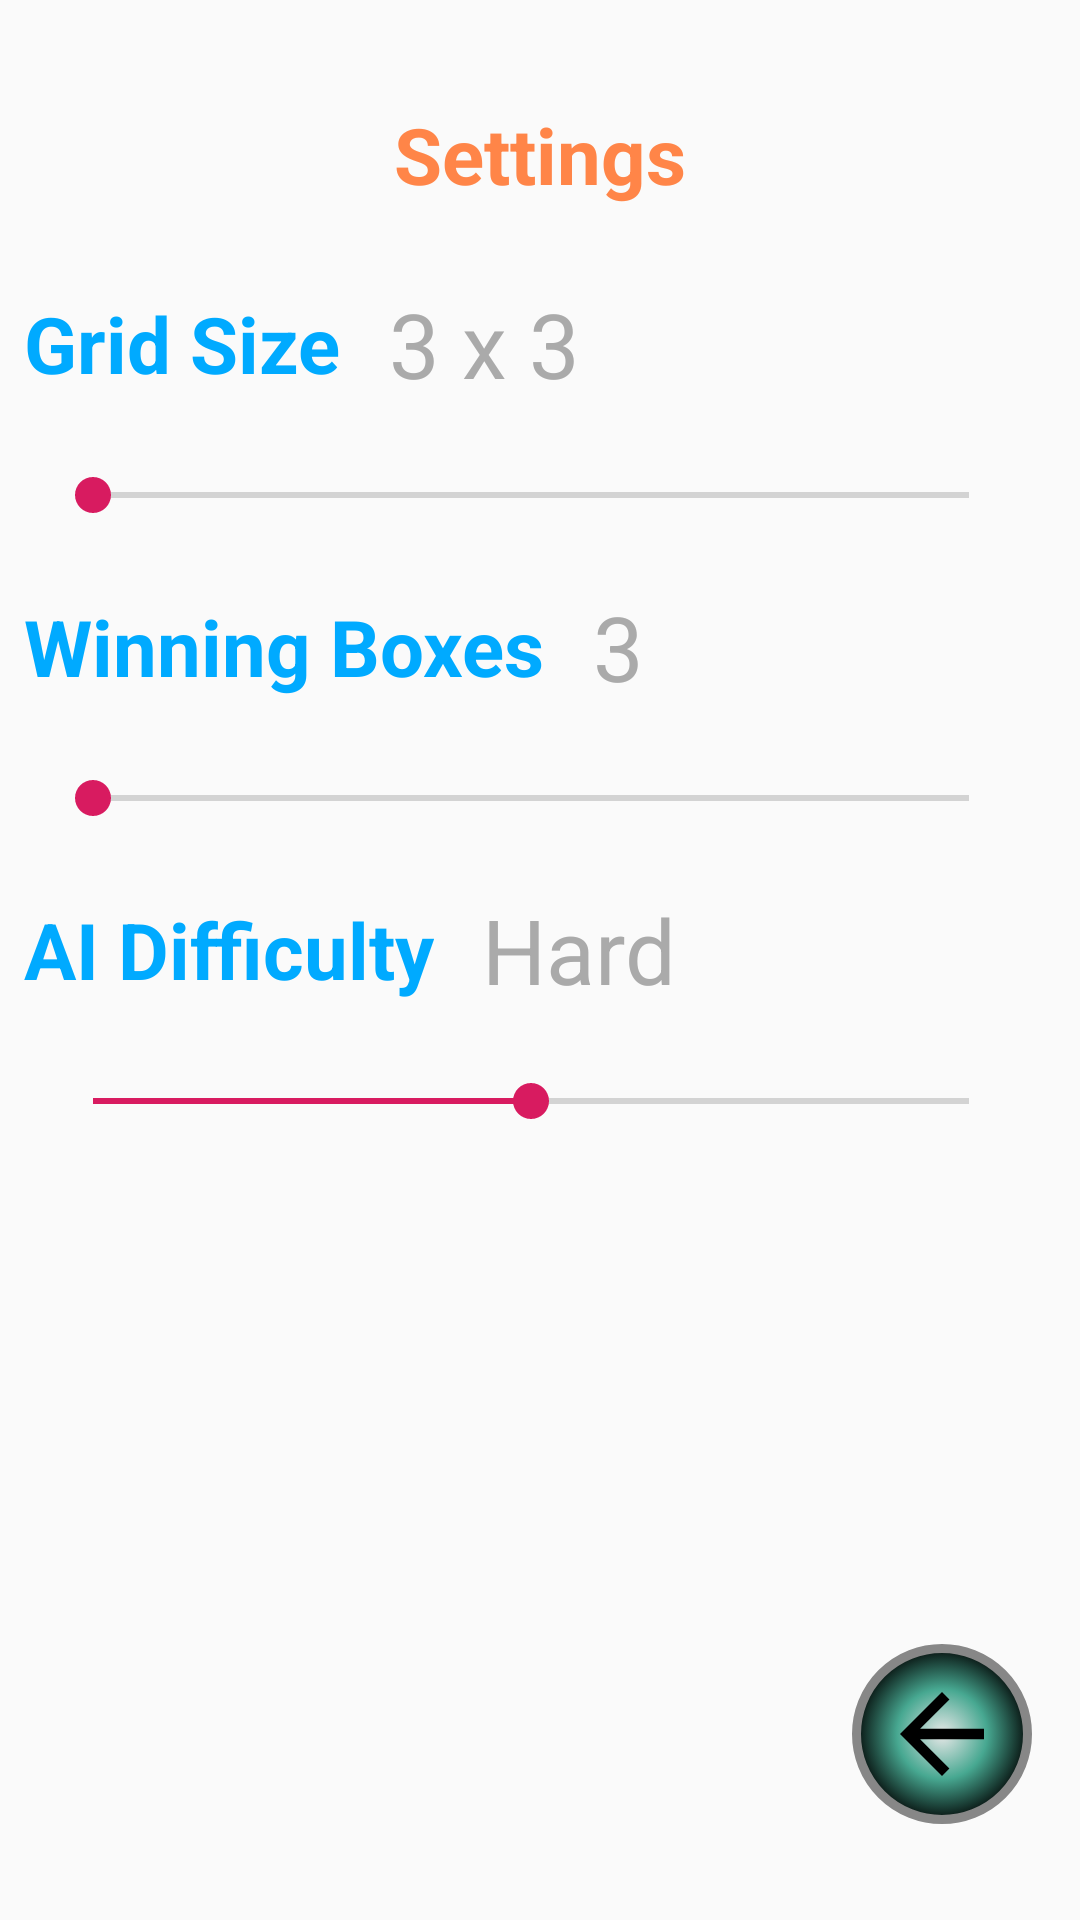

Named icons in this screenshot (1080w x 1920h) and their bounding boxes, (x1, y1, x2, y2):
back: (852, 1644, 1032, 1824)
